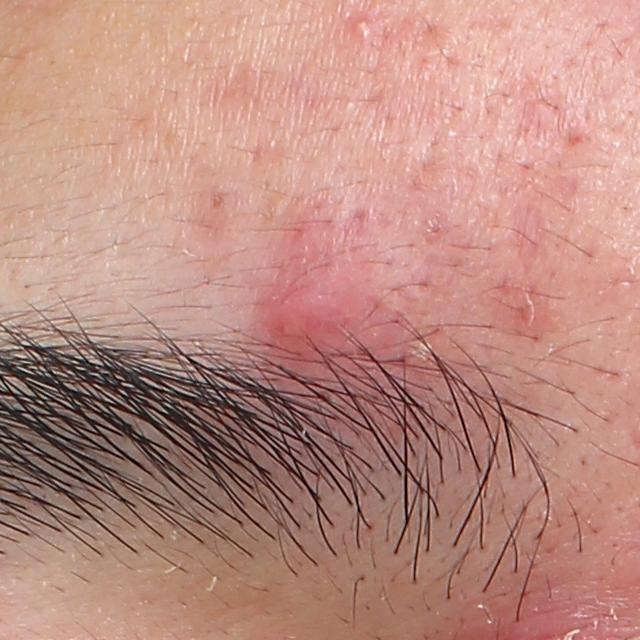comedo: (204, 192, 228, 212)
pustule: (350, 14, 373, 44)
